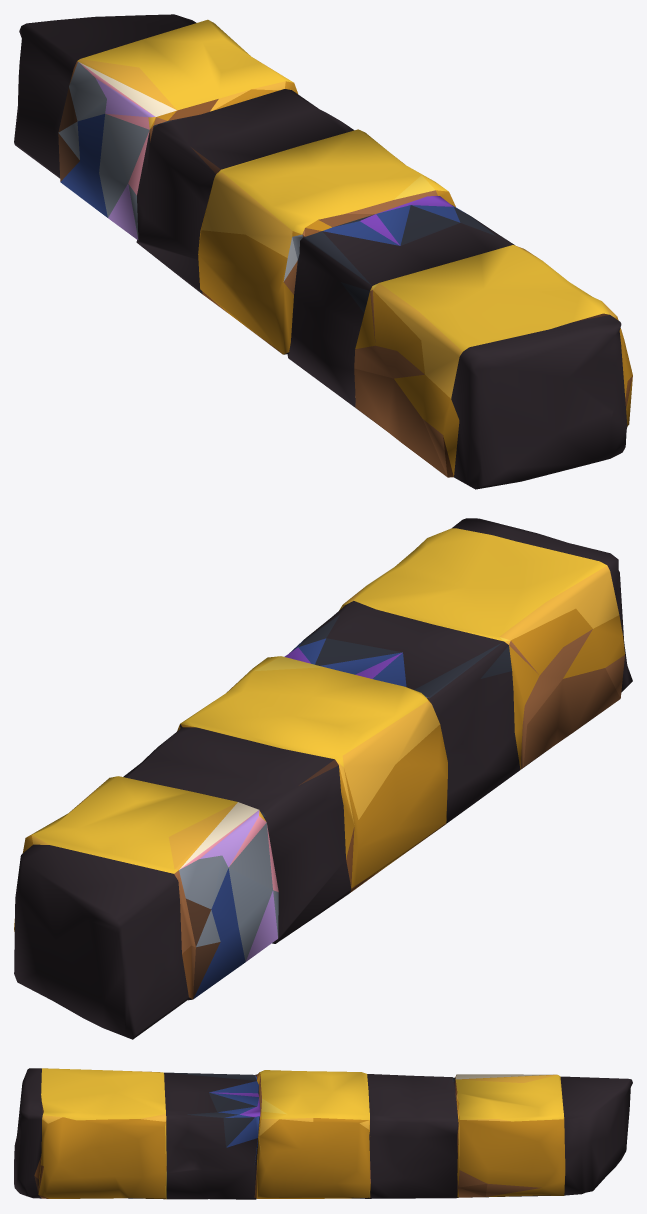
File: SM_parking_block.glb
3 views of the same model, one above another, from view 1: azimuth 30°, elevation 25°; view 2: azimuth 150°, elevation 25°; view 3: azimuth 270°, elevation 25° (orthographic). The views are drawn at different scales.
Parts seen in each view (by area): view 1: SM_parking_block; view 2: SM_parking_block; view 3: SM_parking_block.
Part boxes in pixels (x1,y1,x2,y2): SM_parking_block: (14,14,632,489); SM_parking_block: (14,518,632,1039); SM_parking_block: (14,1068,632,1199).
Size of the model in its own units: 0.3859 by 0.25 by 1.65.
Materials: 1 (1 with a texture image).
